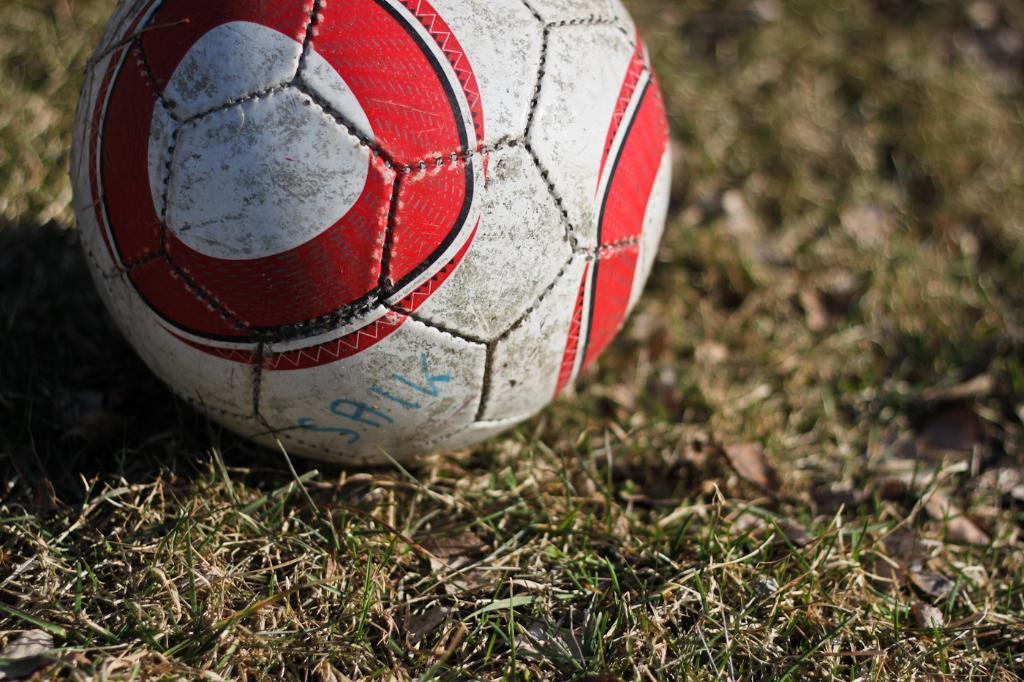Ball: (69, 3, 675, 470)
